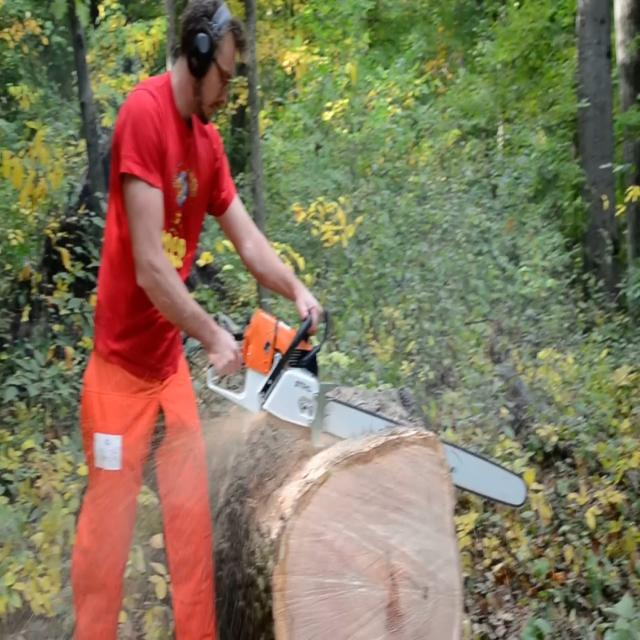Chainsaw: (193, 272, 540, 560)
